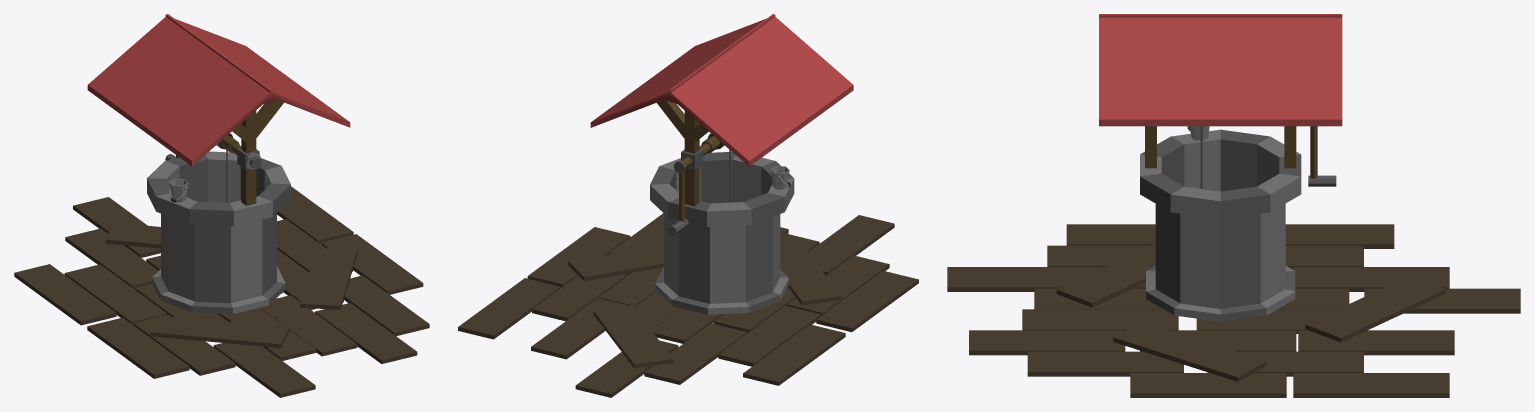
File: FMP_Well_Shaded.fbx
The picture shows the model from 3 angles, left to right: view 1: azimuth 30°, elevation 25°; view 2: azimuth 150°, elevation 25°; view 3: azimuth 270°, elevation 25°; orthographic projection. The views are drawn at different scales.
Parts seen in each view (by area): view 1: pCube120; view 2: pCube120; view 3: pCube120.
Boxes of the visible parts, x1,y1,x2,y2 form: pCube120: (14,14,429,397); pCube120: (458,14,918,397); pCube120: (947,14,1520,397).
Size of the model in its own units: 864 by 687 by 1237.
